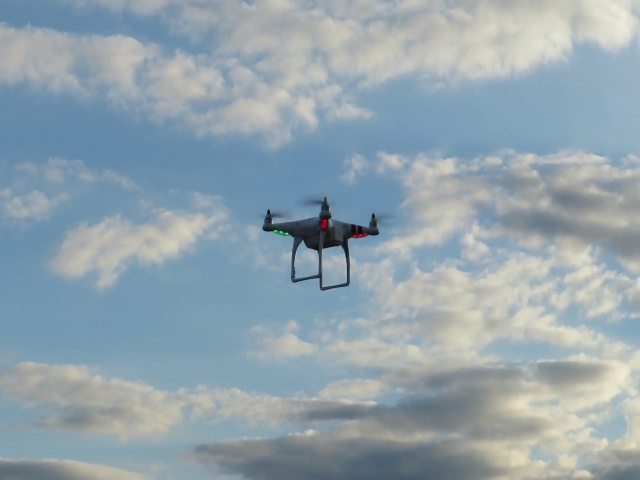drone: (248, 192, 406, 293)
